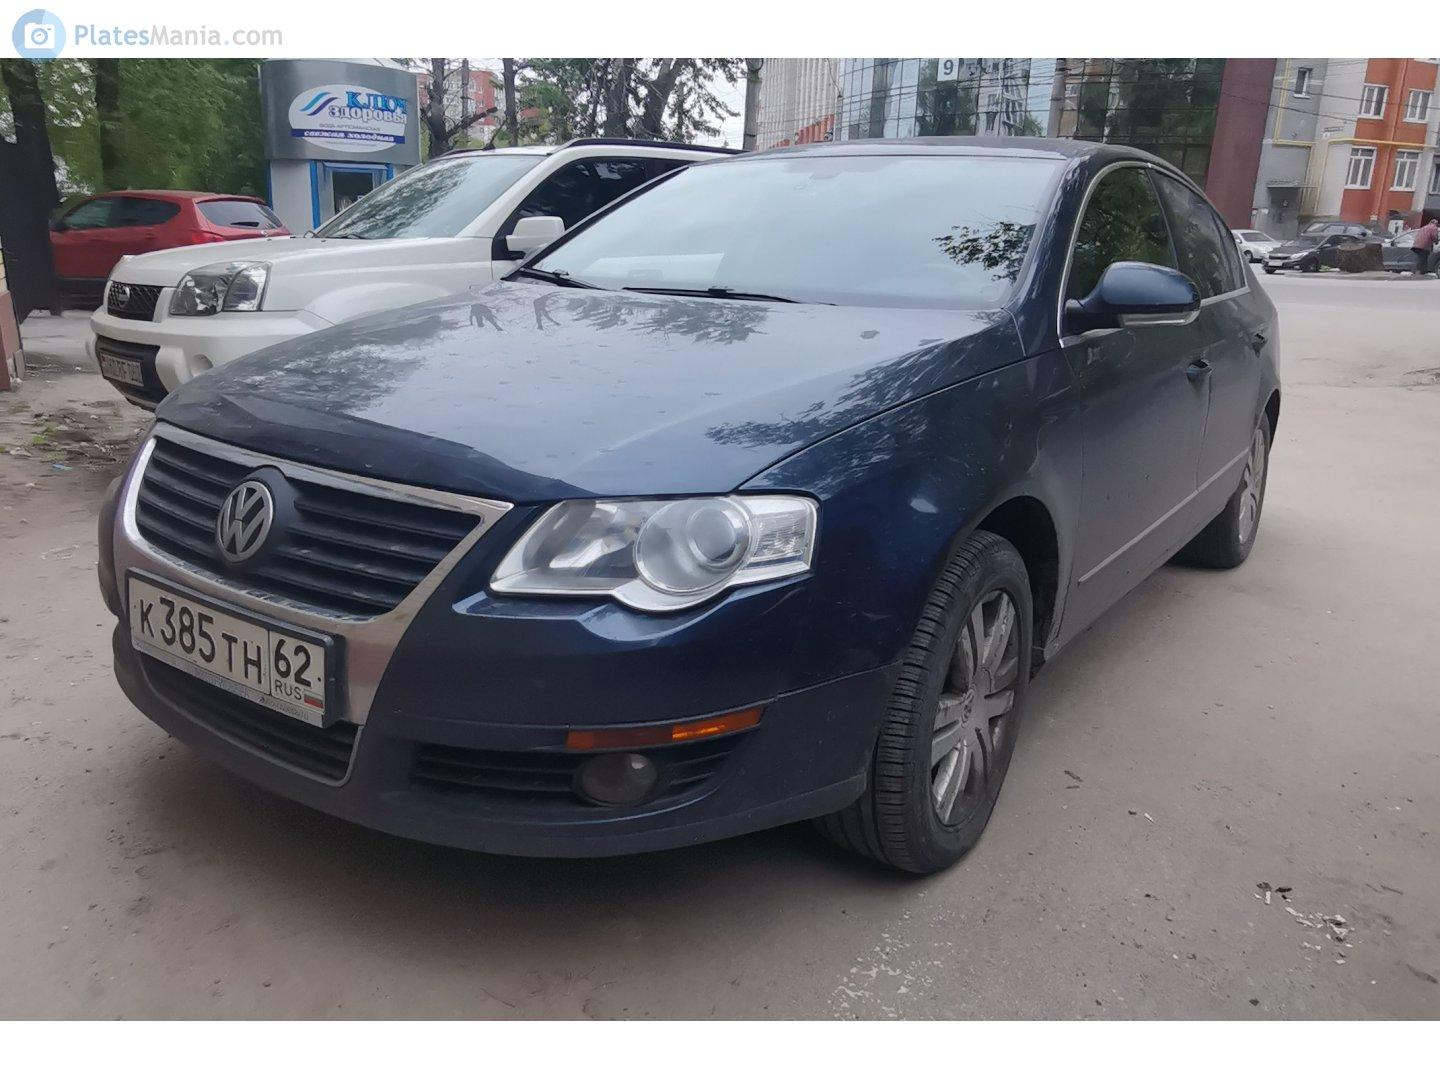license-plateSW: (122, 571, 327, 718)
